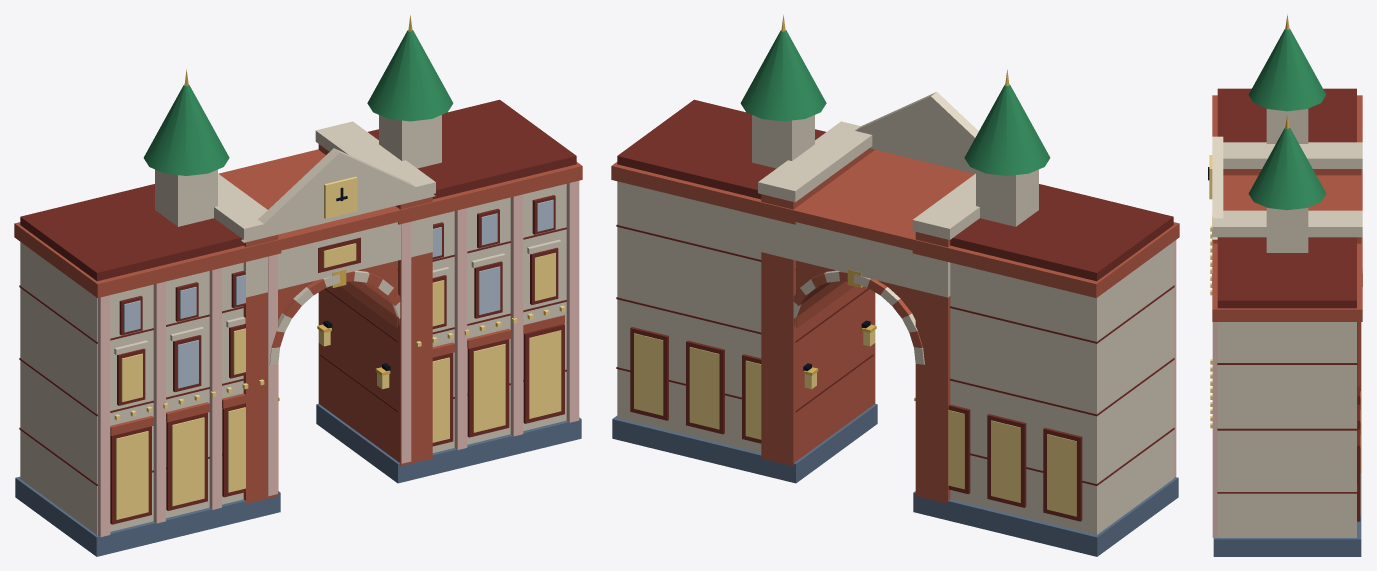
File: bld_gum_facade.glb
3 renders of one model, left to right at view 1: azimuth 30°, elevation 25°; view 2: azimuth 150°, elevation 25°; view 3: azimuth 270°, elevation 25°, orthographic. The views are drawn at different scales.
Parts seen in each view (by area): view 1: bld_gum_facade; view 2: bld_gum_facade; view 3: bld_gum_facade.
Boxes of the visible parts, box(x1,y1,x2,y2) form: bld_gum_facade: box(14, 15, 582, 556); bld_gum_facade: box(611, 15, 1179, 556); bld_gum_facade: box(1208, 14, 1362, 556).
Bounding box in the file's own units: 18.2 × 15.3 × 5.56.
Materials: 1 (1 with a texture image).
